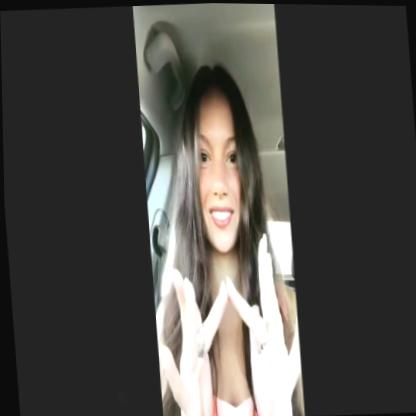Internet: (147, 222, 301, 416)
